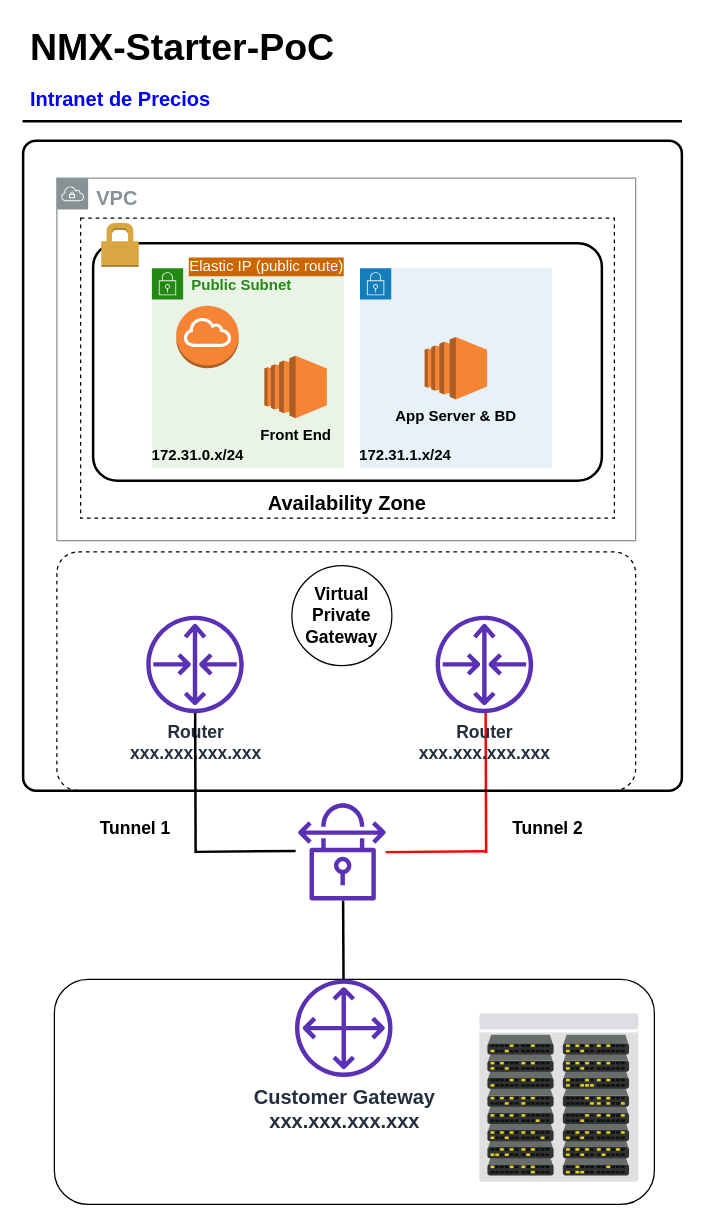
Some shapes in this 705 by 1226 pixel diagram are drawn without their labels. The shapes that lost their labels are listed below. From the top down, each one's box as (x1, y1, x2, y2) in pixels, then its label:
(359, 267, 552, 468): Private Subnet
(21, 139, 682, 791): AWS
(298, 802, 385, 900): VPN Connection
(53, 978, 654, 1204): Customer Network
